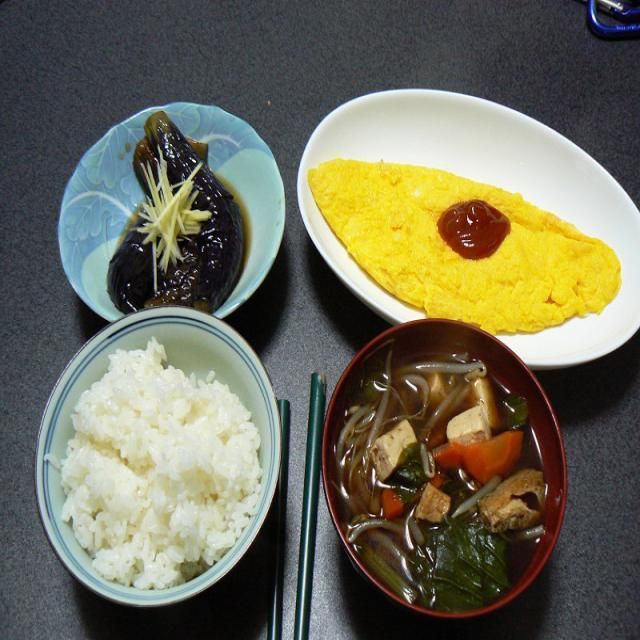Omelet: (294, 134, 625, 334)
Rice: (39, 328, 272, 598)
